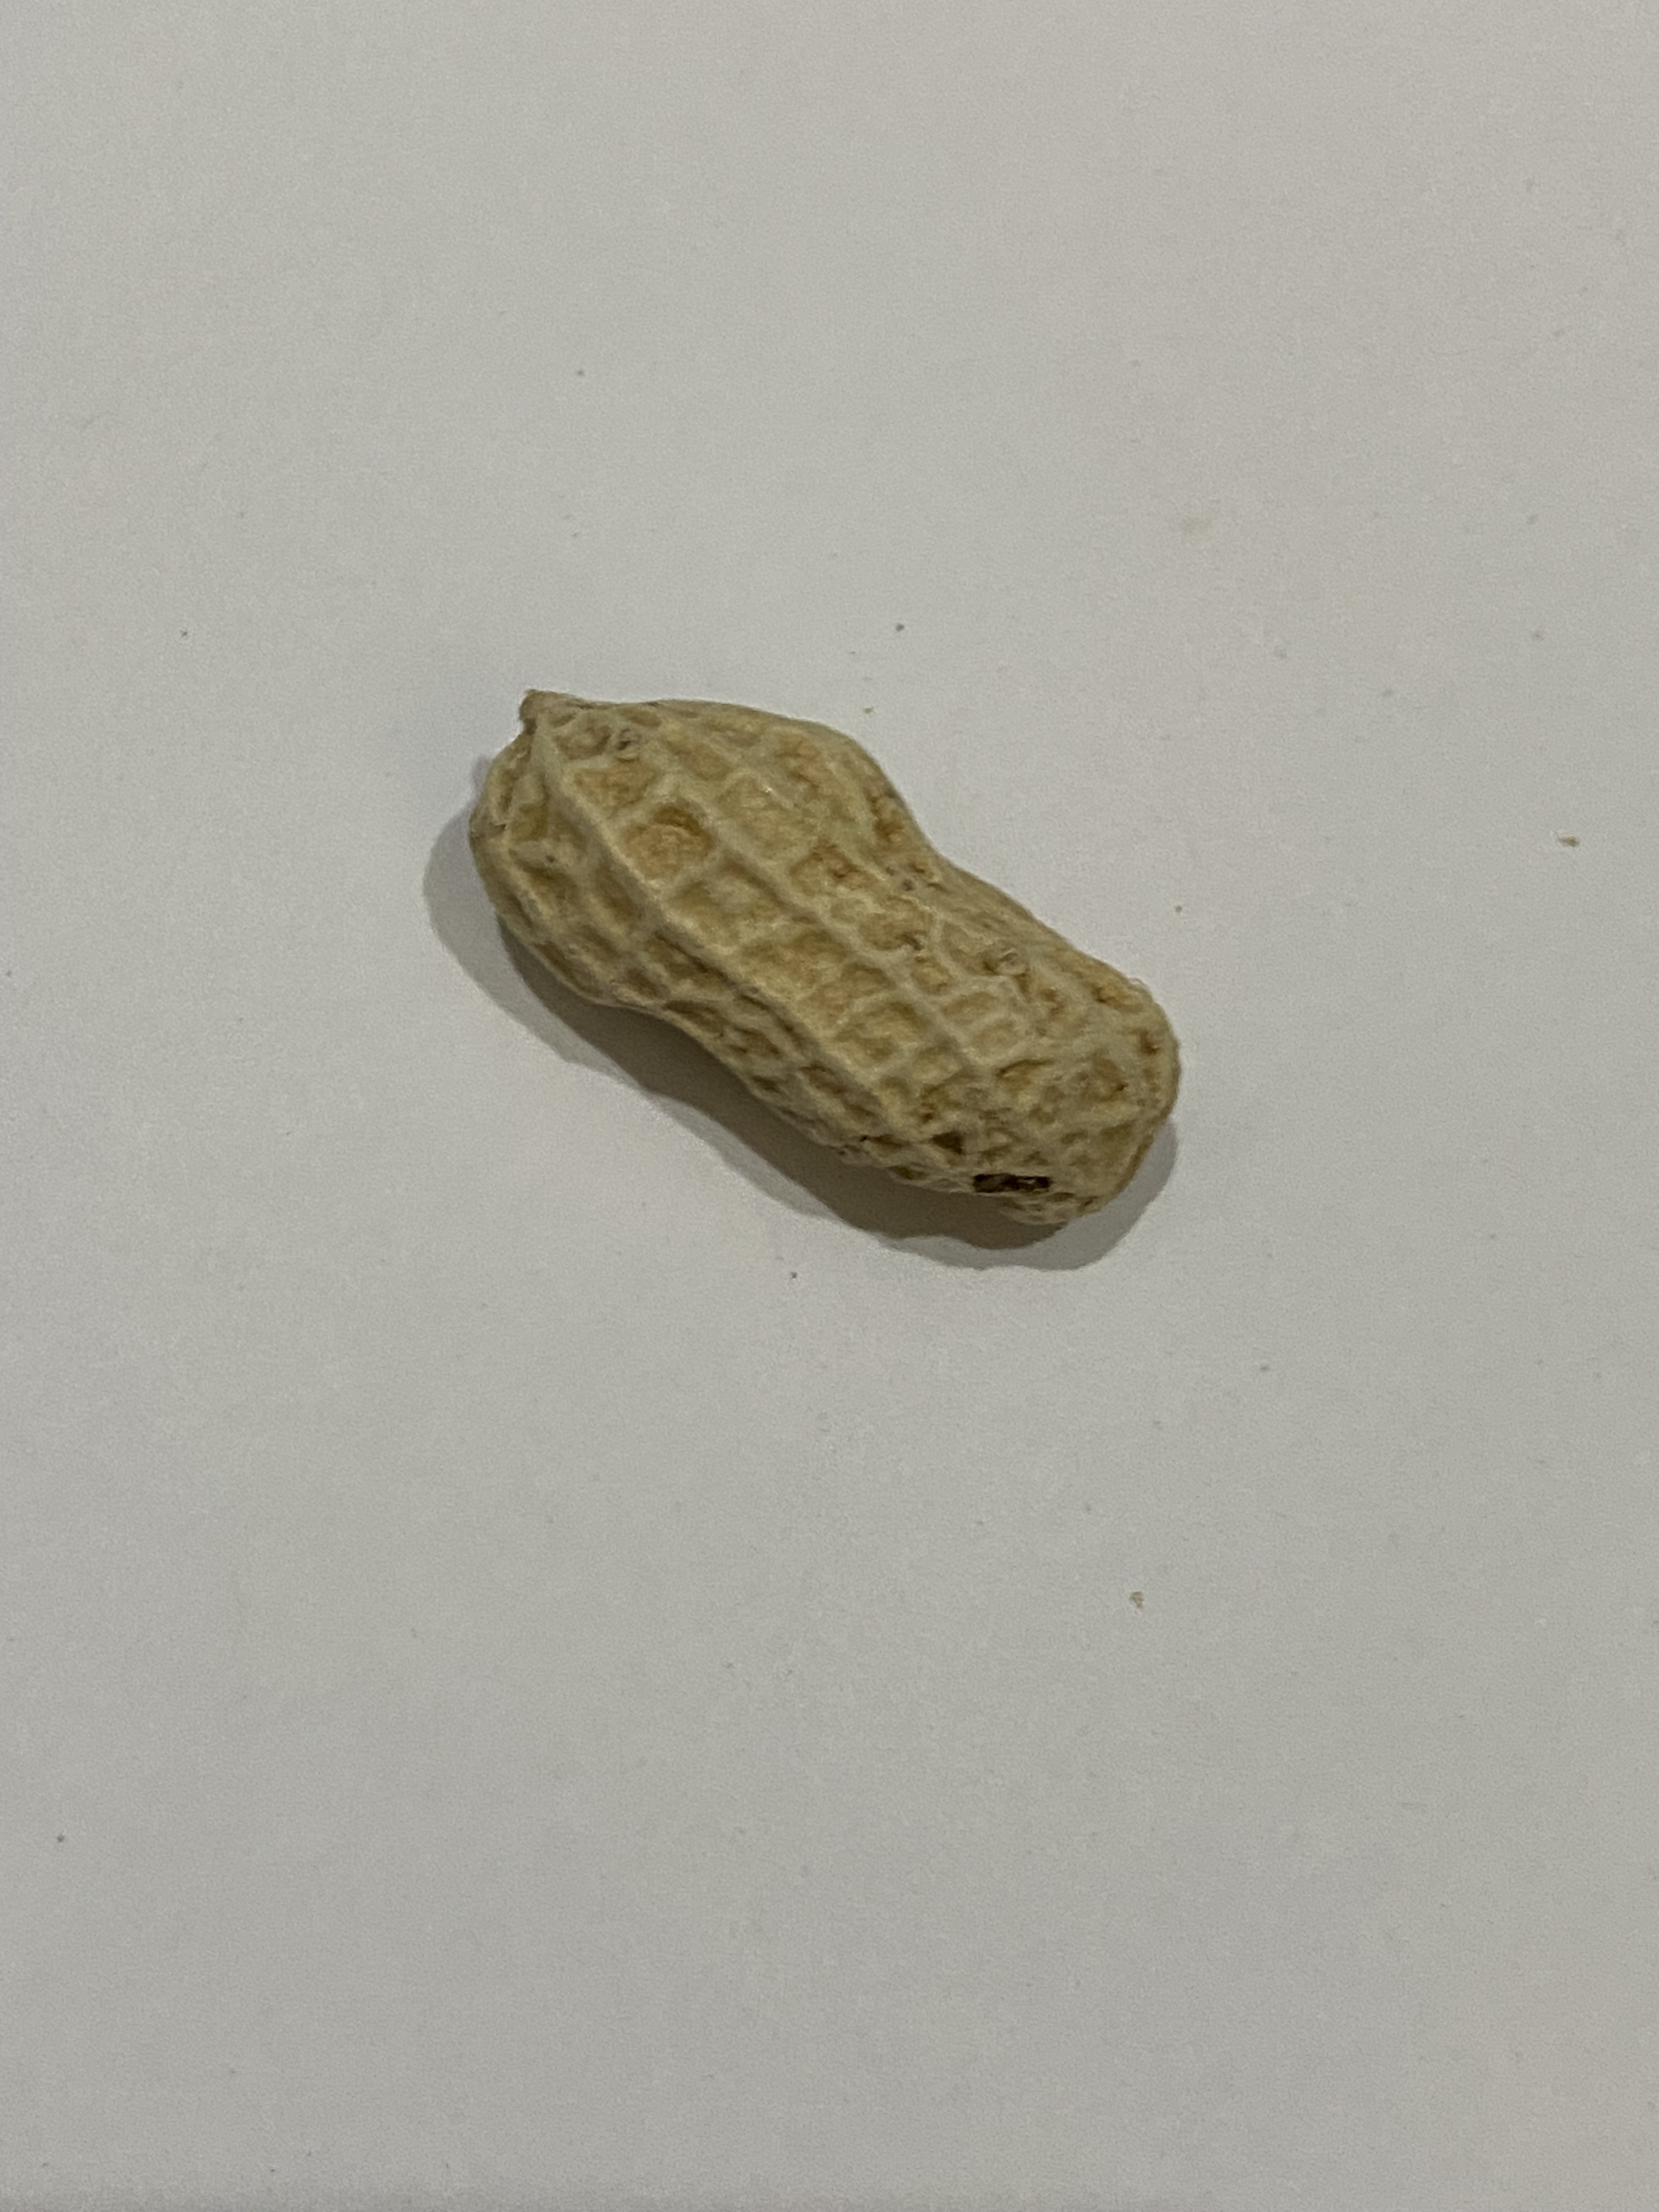kacang2: (460, 667, 1197, 1233)
